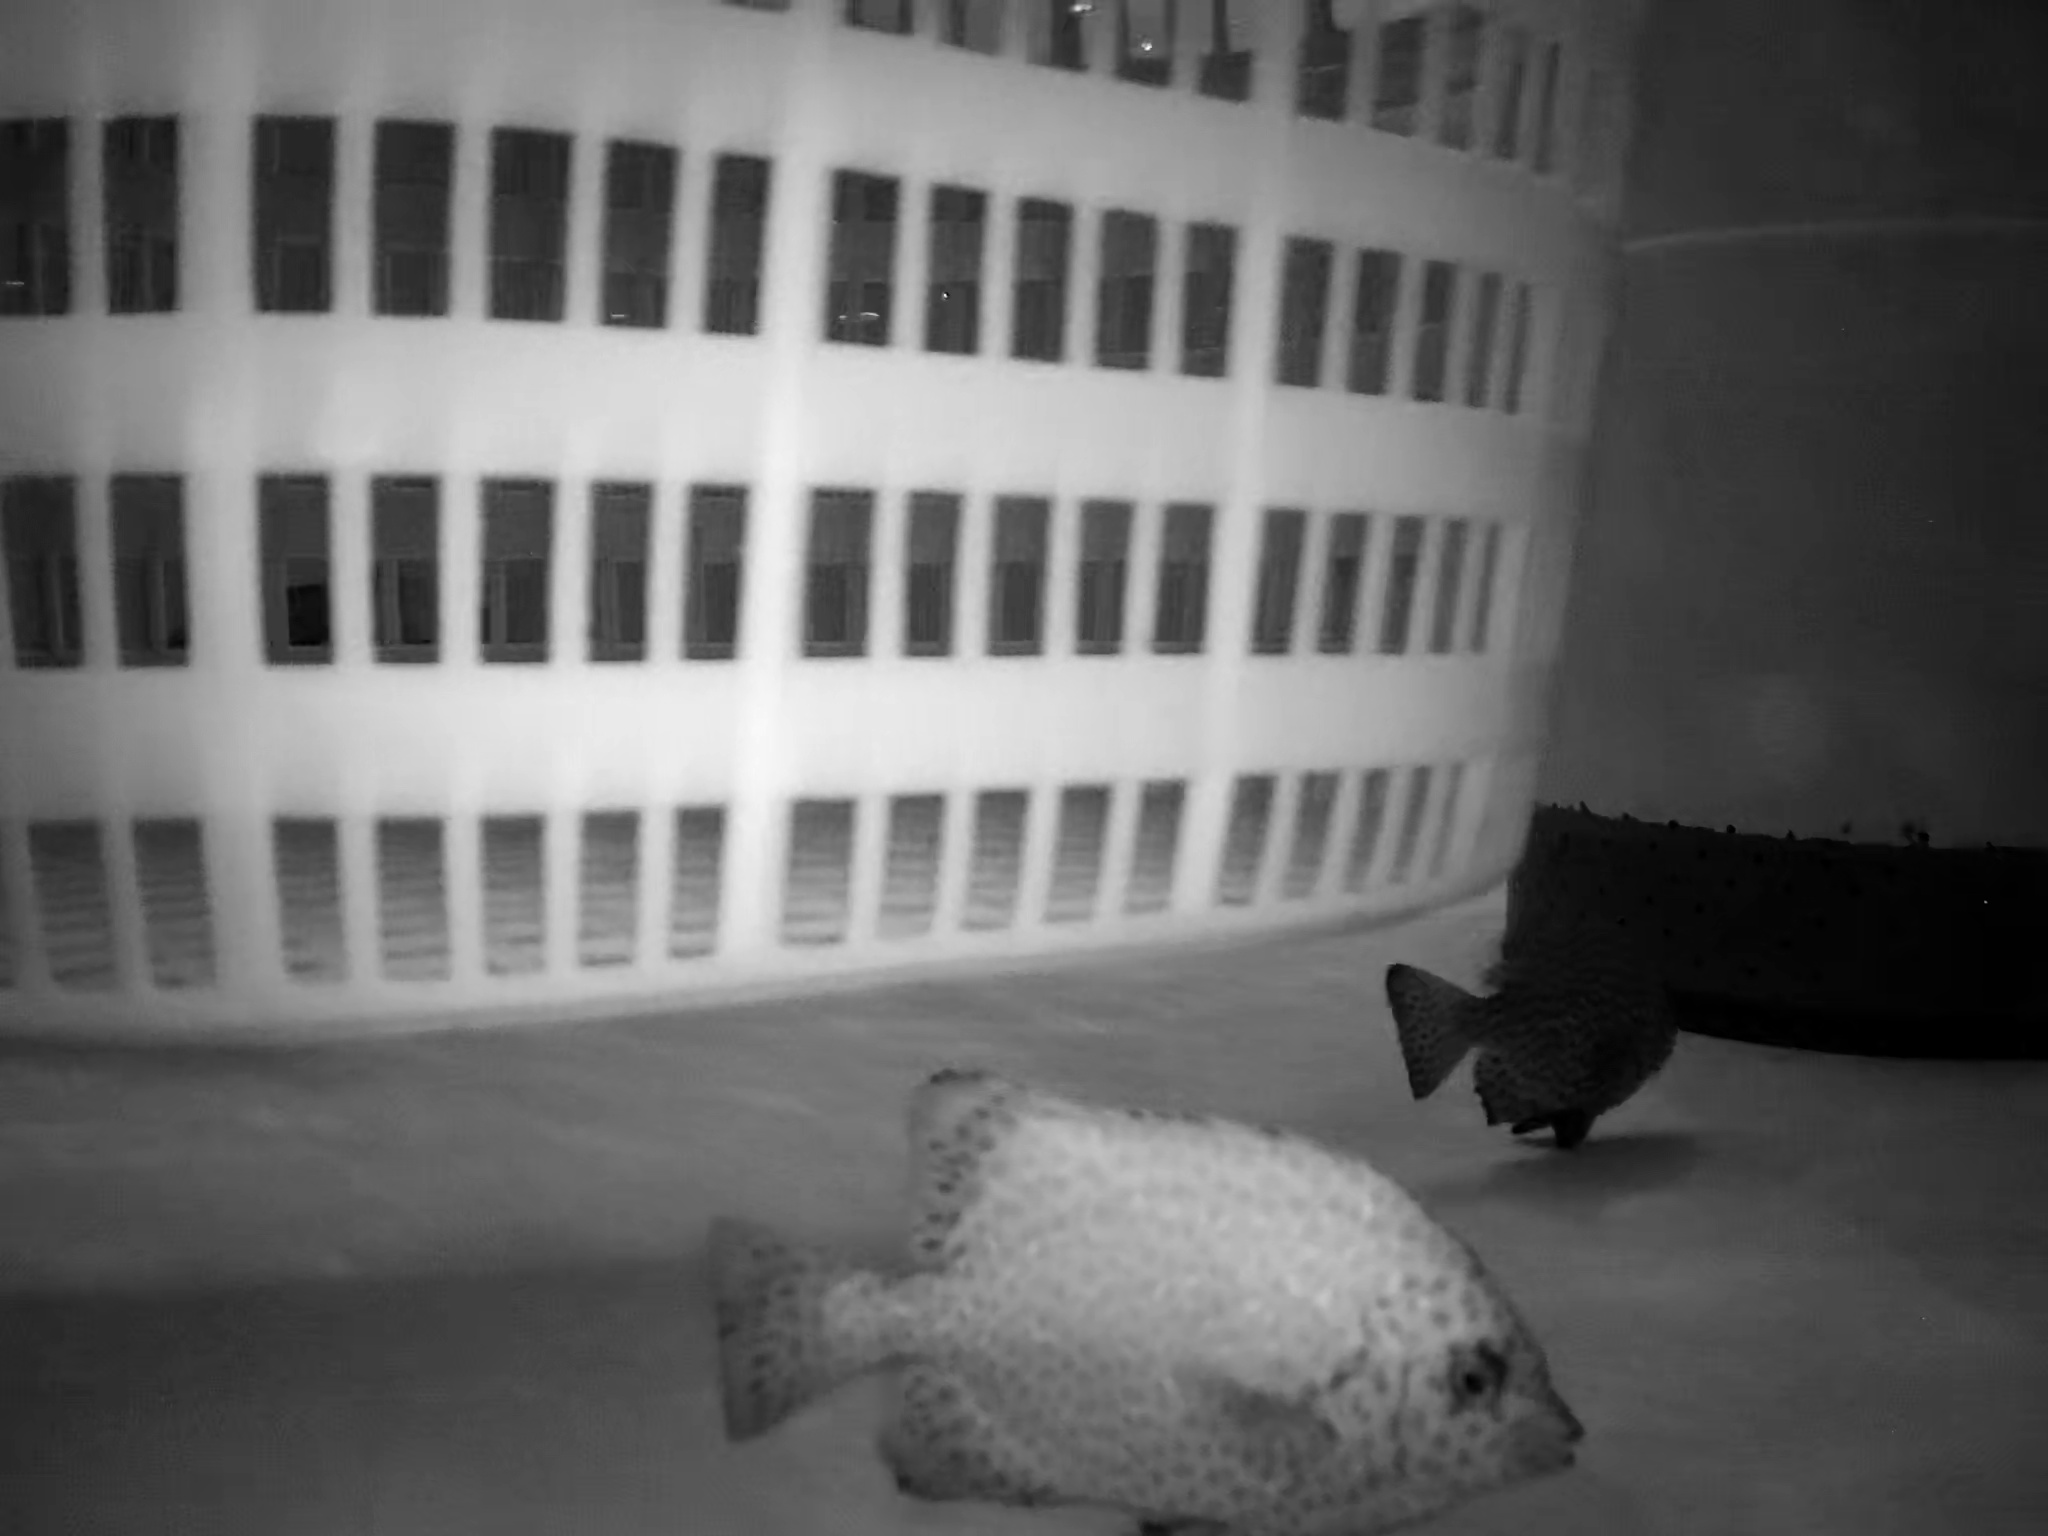fish: (697, 1063, 1661, 1536), (1379, 831, 1677, 1137)
